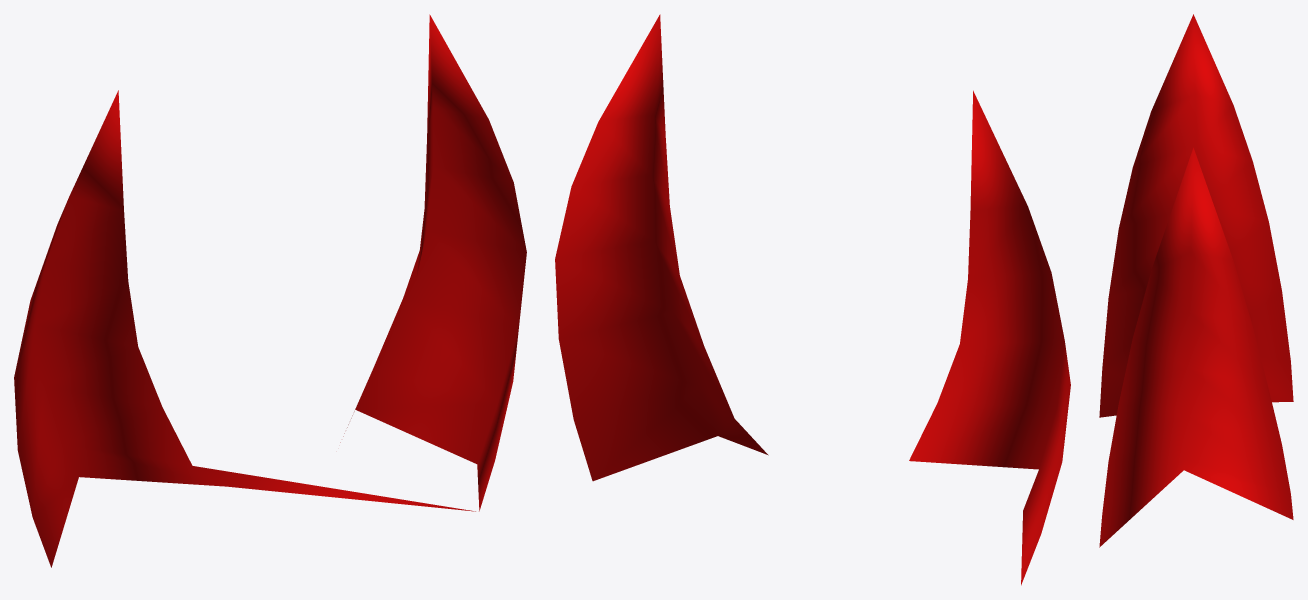
File: HeadAcc_DevilHorns.glb
3 renders of one model, left to right at view 1: azimuth 30°, elevation 25°; view 2: azimuth 150°, elevation 25°; view 3: azimuth 270°, elevation 25°, orthographic. The views are drawn at different scales.
Parts seen in each view (by area): view 1: HeadAcc_DevilHorns; view 2: HeadAcc_DevilHorns; view 3: HeadAcc_DevilHorns.
Boxes of the visible parts, left/top/right/bottom form: HeadAcc_DevilHorns: left=14, top=14, right=526, bottom=567; HeadAcc_DevilHorns: left=555, top=14, right=1070, bottom=585; HeadAcc_DevilHorns: left=1099, top=14, right=1293, bottom=547.
Bounding box in the file's own units: 0.165 × 0.1449 × 0.0616.
